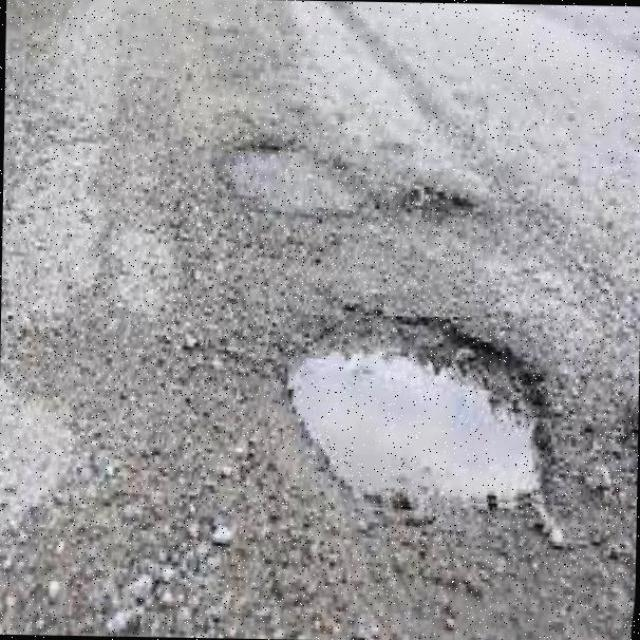pothole: (271, 314, 578, 527), (203, 119, 386, 228)
